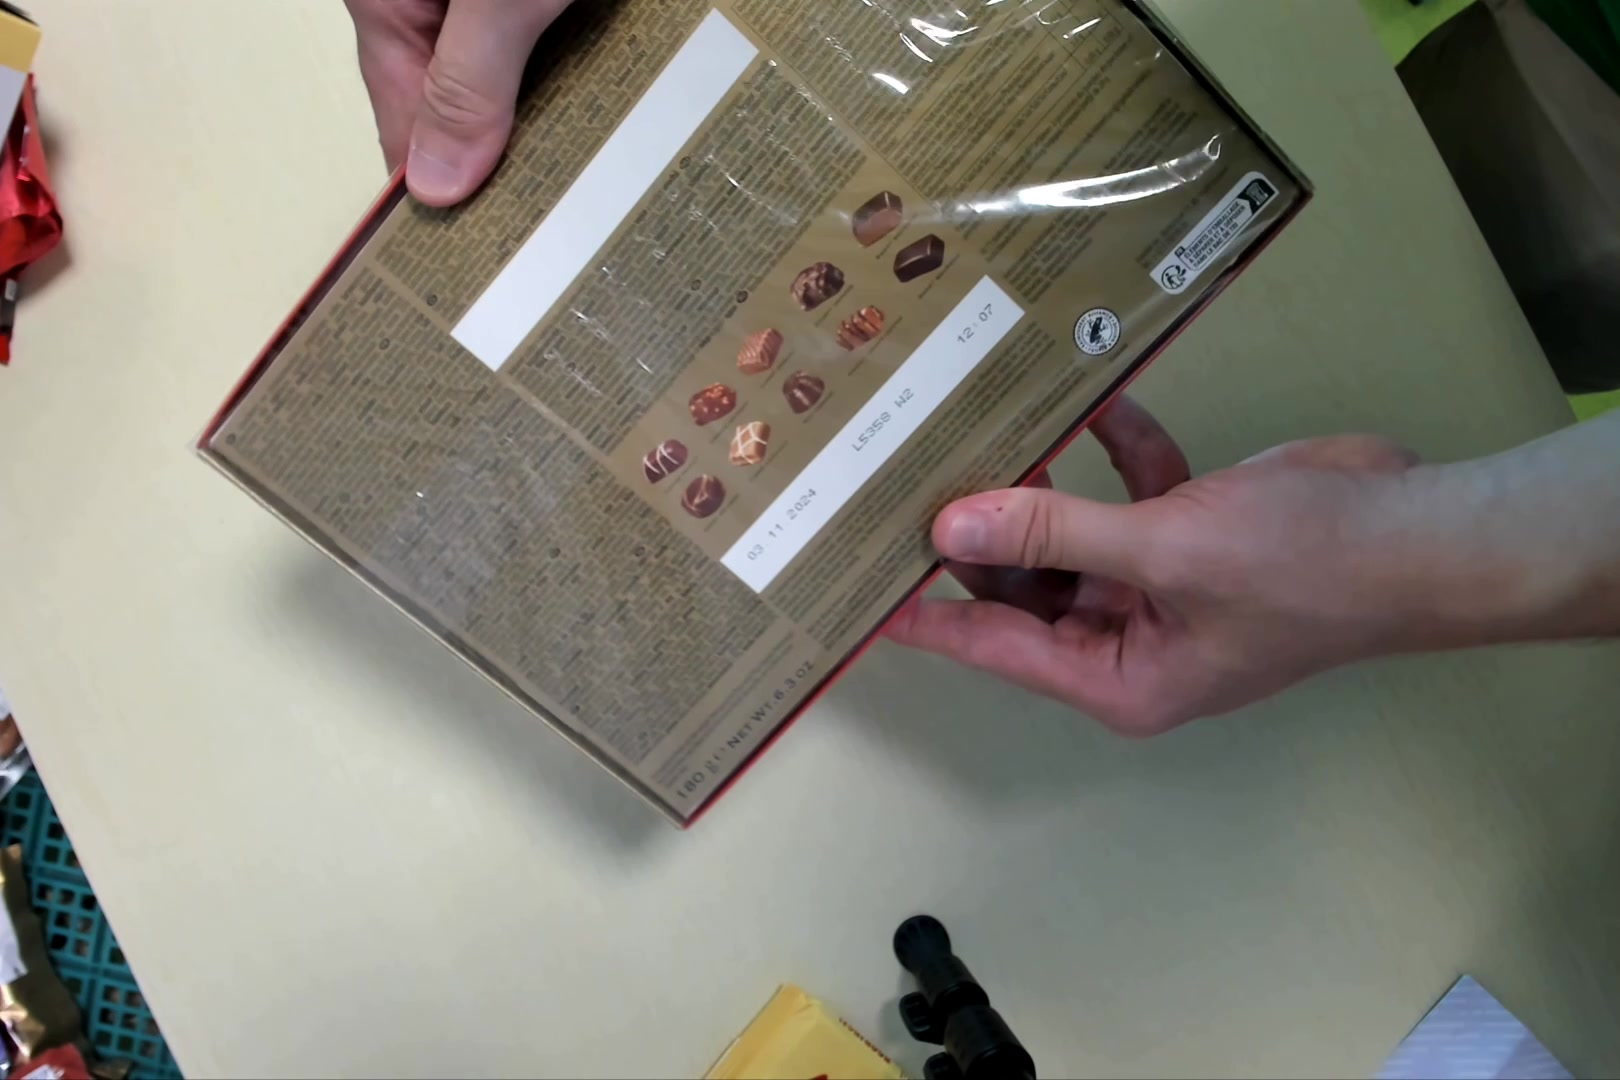SweetsChocolatesOthers_100-199g_NonHalal_NonHealthy: (180, 5, 1301, 843)
